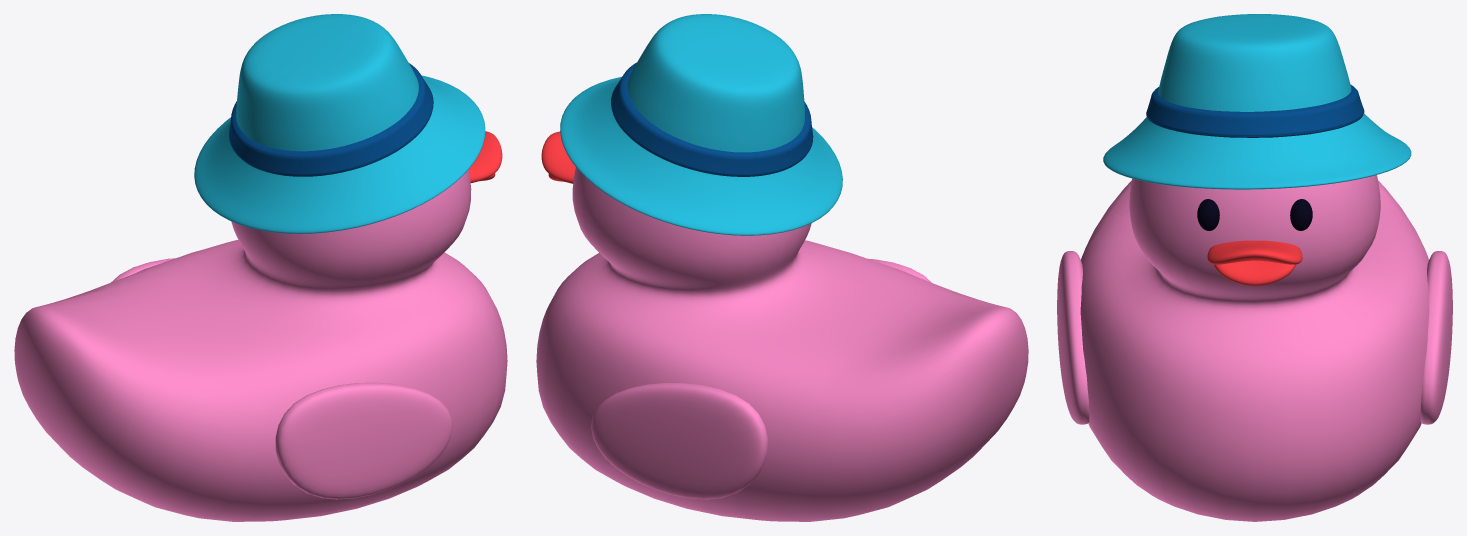
Rendered from duck-model.gltf.
3 renders of one model, left to right at view 1: azimuth 30°, elevation 25°; view 2: azimuth 150°, elevation 25°; view 3: azimuth 270°, elevation 25°, orthographic. The views are drawn at different scales.
Parts seen in each view (by area): view 1: body, hat, rim, beak; view 2: body, hat, rim, beak; view 3: body, hat, rim, beak, normal eyes.
Boxes of the visible parts, left/top/right/bottom form: body: left=14, top=170, right=507, bottom=521; hat: left=194, top=14, right=485, bottom=233; rim: left=229, top=63, right=433, bottom=176; beak: left=468, top=131, right=502, bottom=182; body: left=536, top=167, right=1028, bottom=521; hat: left=560, top=14, right=842, bottom=235; rim: left=611, top=62, right=813, bottom=176; beak: left=541, top=131, right=575, bottom=183; body: left=1057, top=175, right=1452, bottom=521; hat: left=1103, top=14, right=1411, bottom=189; rim: left=1146, top=84, right=1364, bottom=137; beak: left=1207, top=240, right=1302, bottom=285; normal eyes: left=1197, top=199, right=1312, bottom=230.
Bounding box in the file's own units: 0.6213 × 0.5779 × 0.4425.
